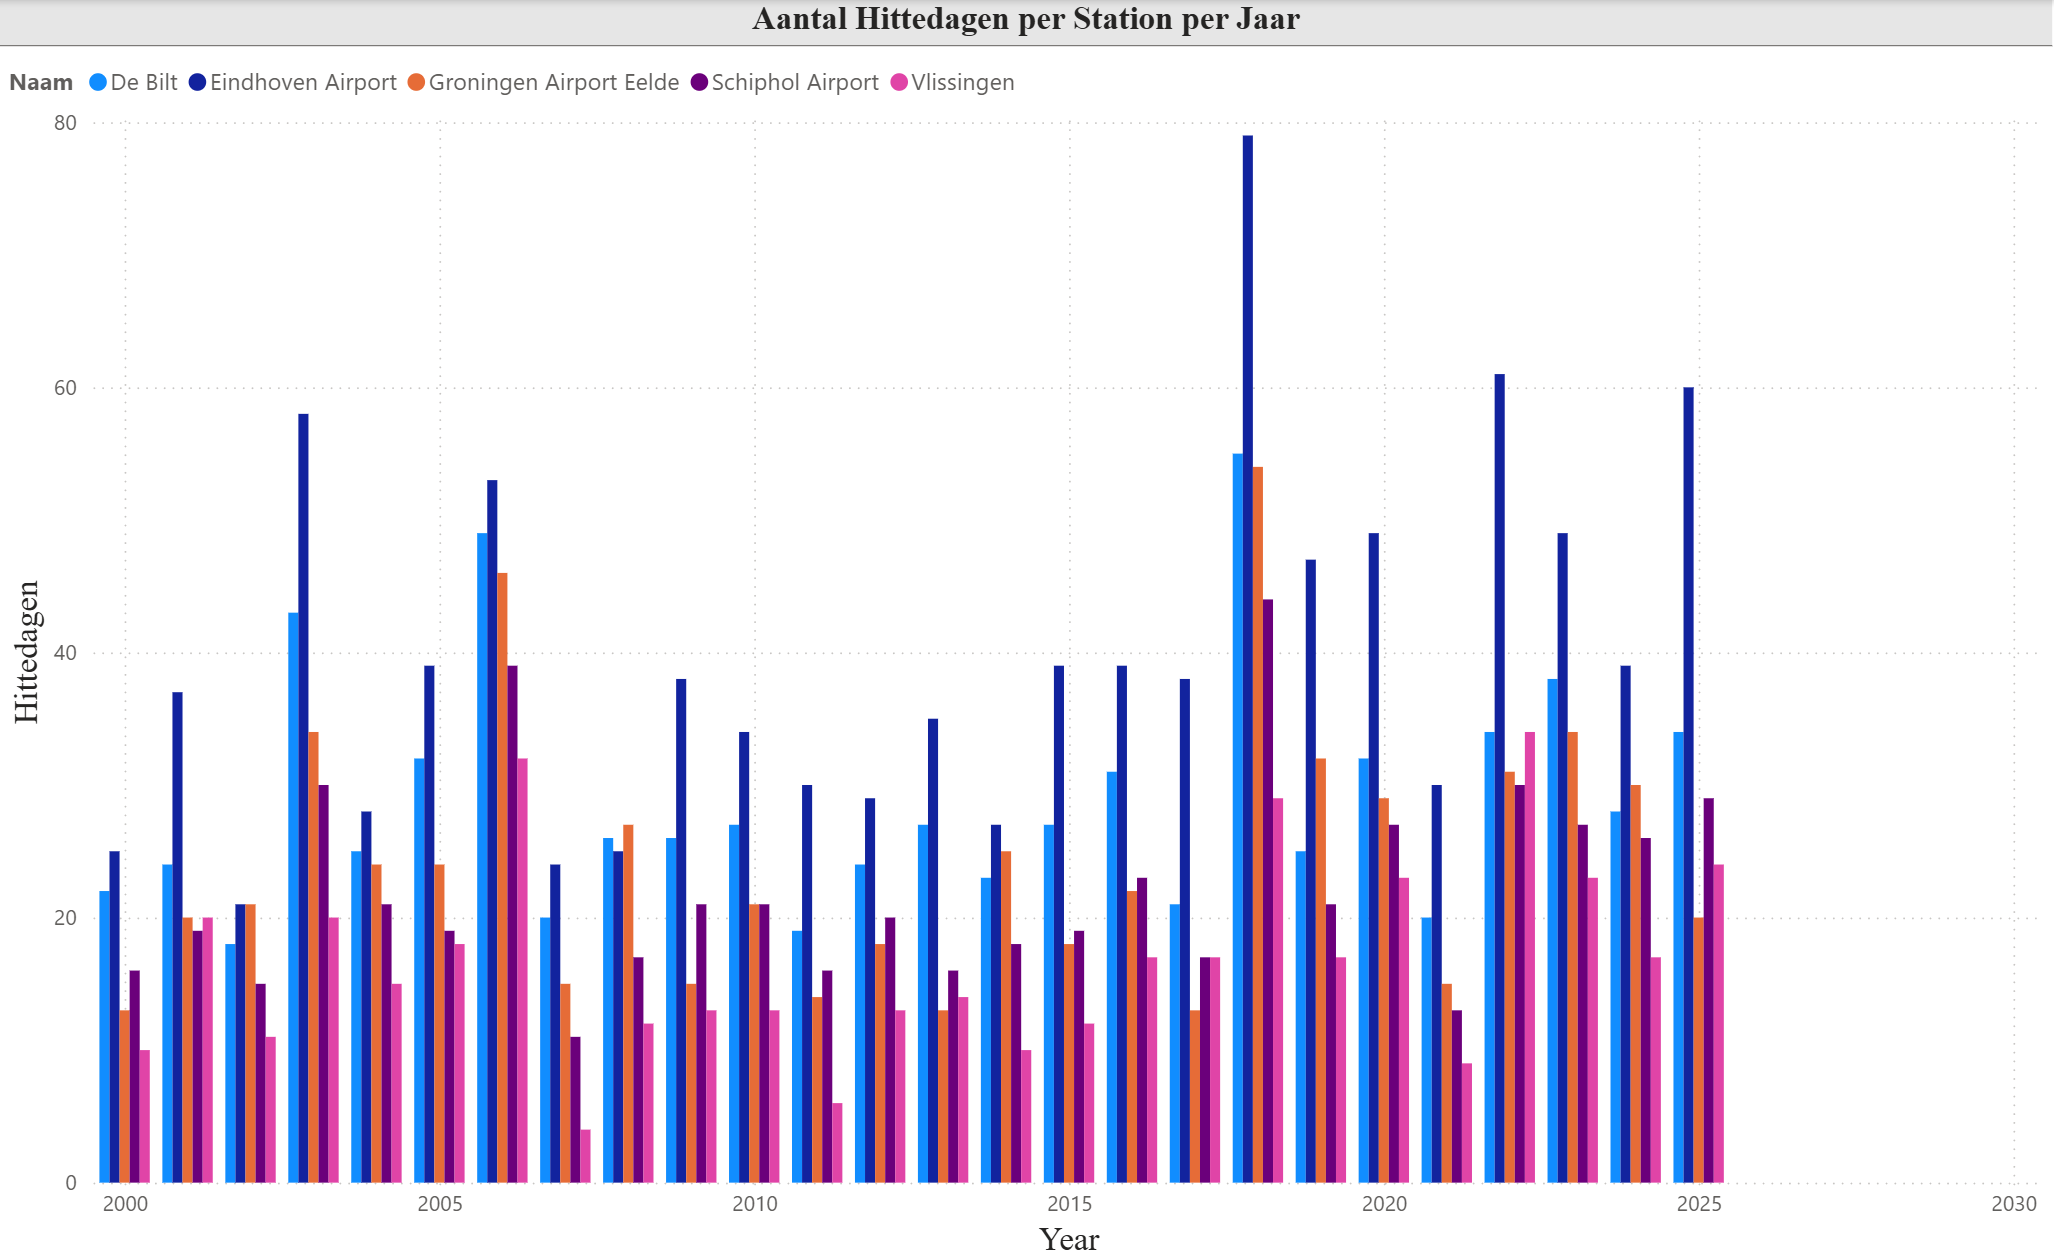

The dashboard page shown, as its layout file describes it:
{"tool":"powerbi","page":{"name":"Hittedagen","canvas":[1280,720],"ordinal":0},"visuals":[{"type":"clusteredColumnChart","title":"Aantal Hittedagen per Station per Jaar","fields":{"Category":["public dim_date.year"],"Y":["CountNonNull(public fact_weather.temp_max)"],"Series":["public dim_station.name"]},"box":[80,0,1168,720],"z":0}]}

Visuals, with their boxes on the page's 1280x720 design canvas (x1, y1, x2, y2). These are canvas units, not pixel positions in the 2054x1251 screenshot, which may show the page scaled, cropped or inside an application window:
"Aantal Hittedagen per Station per Jaar" clusteredColumnChart: 80,0,1248,720
